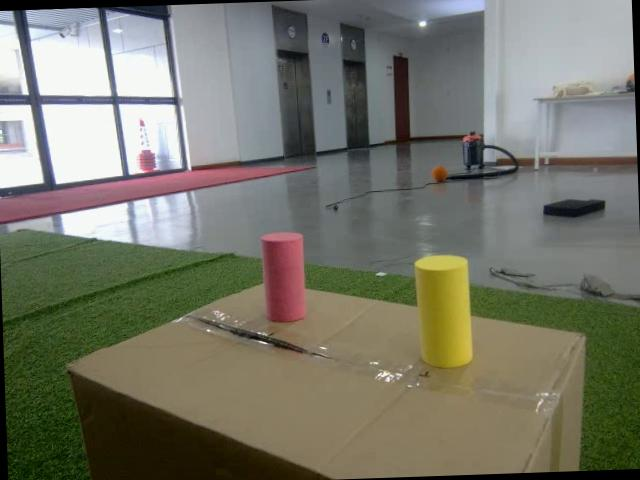red_cylinder: (261, 230, 308, 322)
yellow_cylinder: (412, 252, 474, 370)
